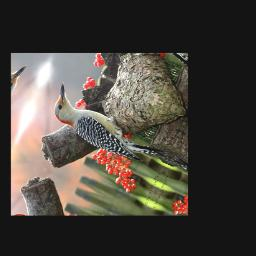Woodpecker: (42, 77, 180, 176)
